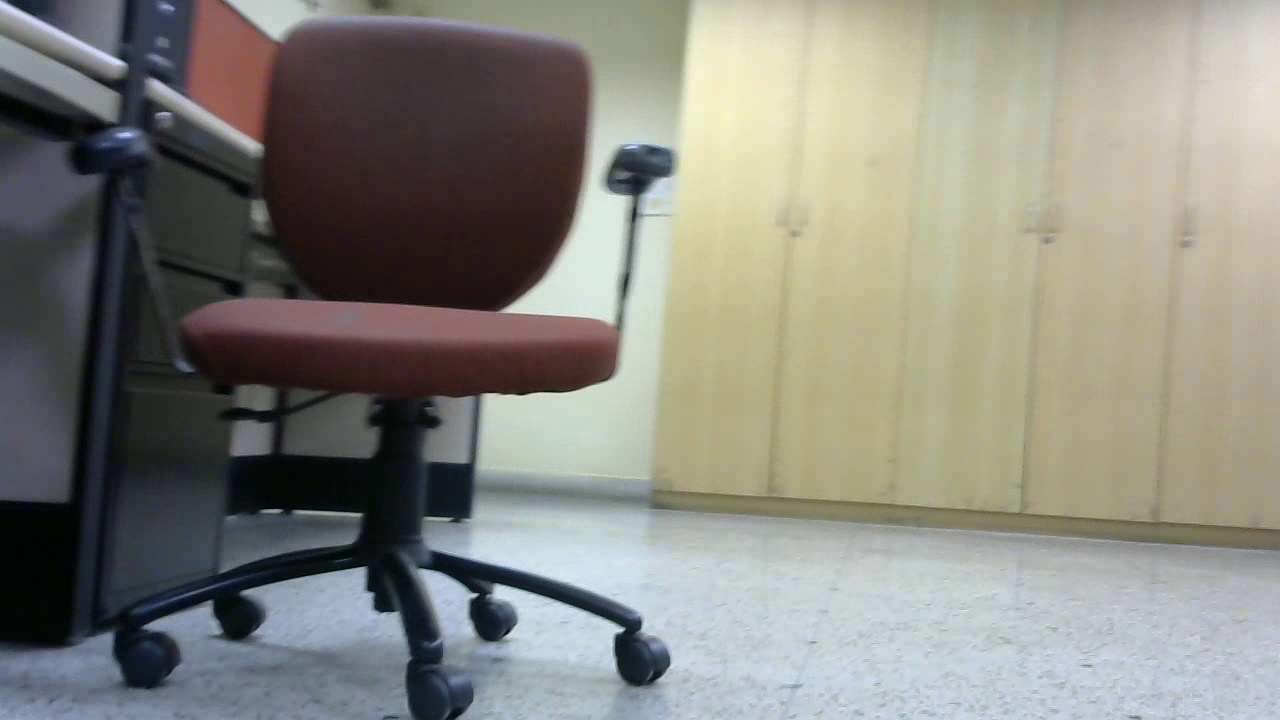chair: (97, 18, 708, 720)
